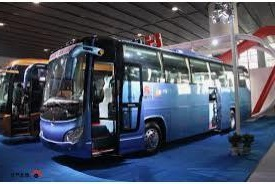bus: (35, 36, 252, 157)
